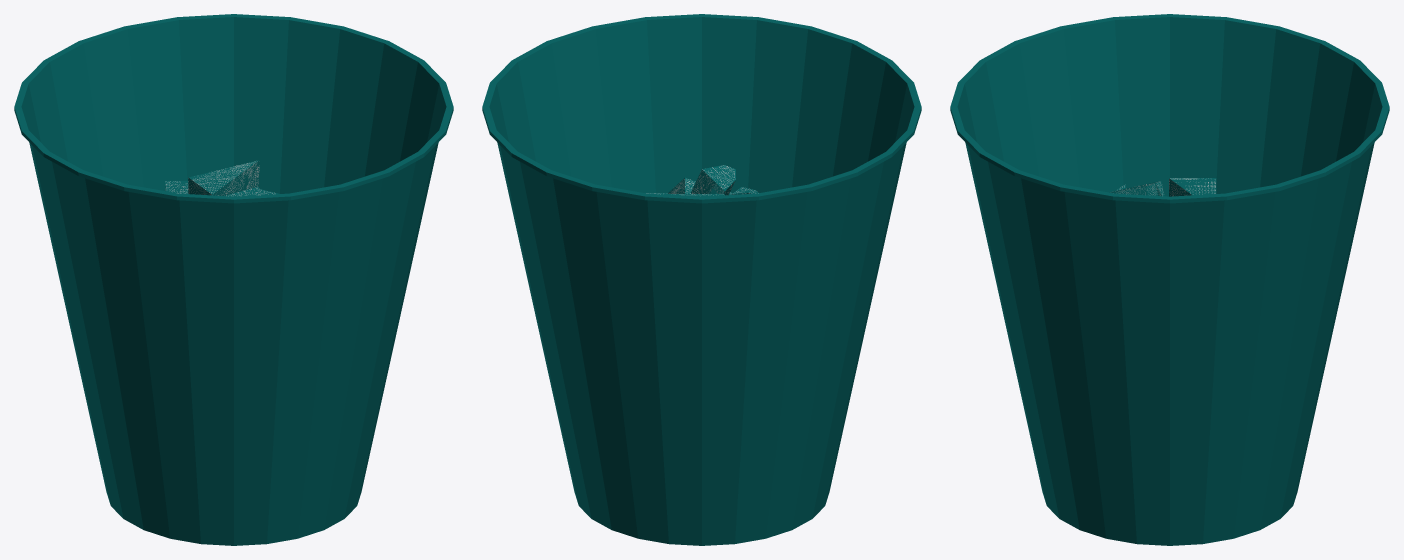
The picture shows the model from 3 angles, left to right: view 1: azimuth 30°, elevation 25°; view 2: azimuth 150°, elevation 25°; view 3: azimuth 270°, elevation 25°; orthographic projection.
Visible parts, largest first — view 1: mesh1_mesh1-geometry; view 2: mesh1_mesh1-geometry; view 3: mesh1_mesh1-geometry.
Part boxes in pixels (box(x1,y1,x2,y2)): mesh1_mesh1-geometry: box(14, 14, 453, 545); mesh1_mesh1-geometry: box(482, 14, 921, 545); mesh1_mesh1-geometry: box(950, 14, 1389, 545).
Bounding box in the file's own units: 0.5836 × 0.5647 × 0.5836.
